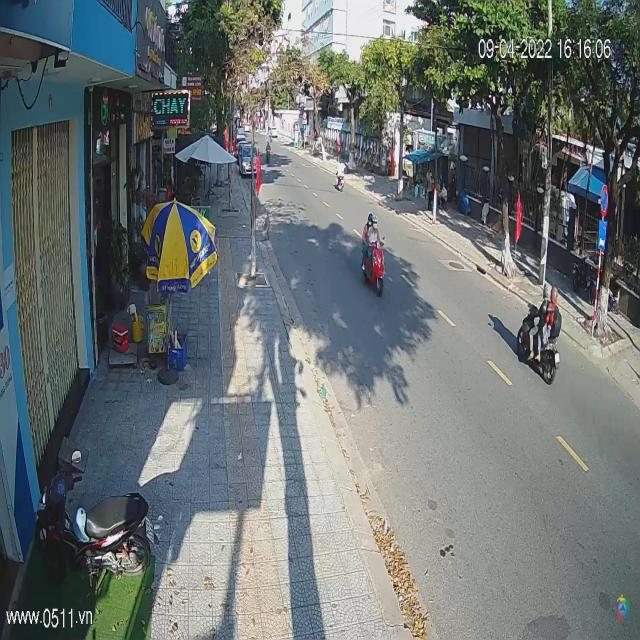motorcycle: (516, 304, 558, 391), (359, 227, 385, 296), (334, 172, 345, 191)
